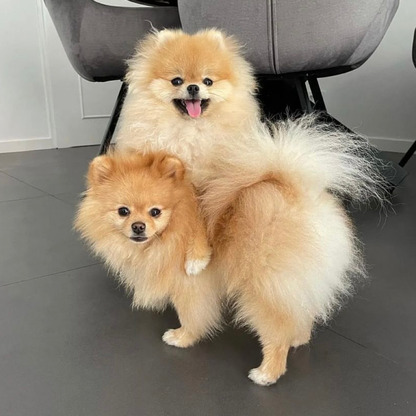Pomeranian: (39, 148, 371, 360), (89, 18, 324, 143)
